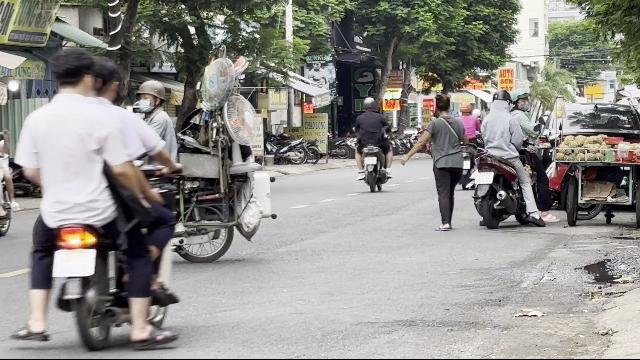helmet: (134, 78, 166, 114), (509, 88, 531, 112), (490, 88, 508, 108)
licenseplate: (54, 249, 94, 275), (475, 172, 493, 182)
motorcyclist: (8, 49, 184, 351), (471, 85, 539, 229)
nohelmet: (47, 49, 97, 96), (86, 56, 124, 104)
